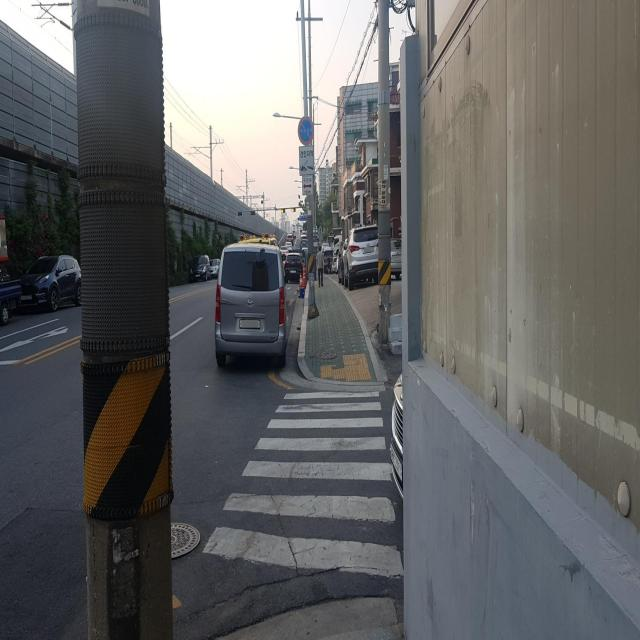횡단보도: (200, 387, 405, 581)
